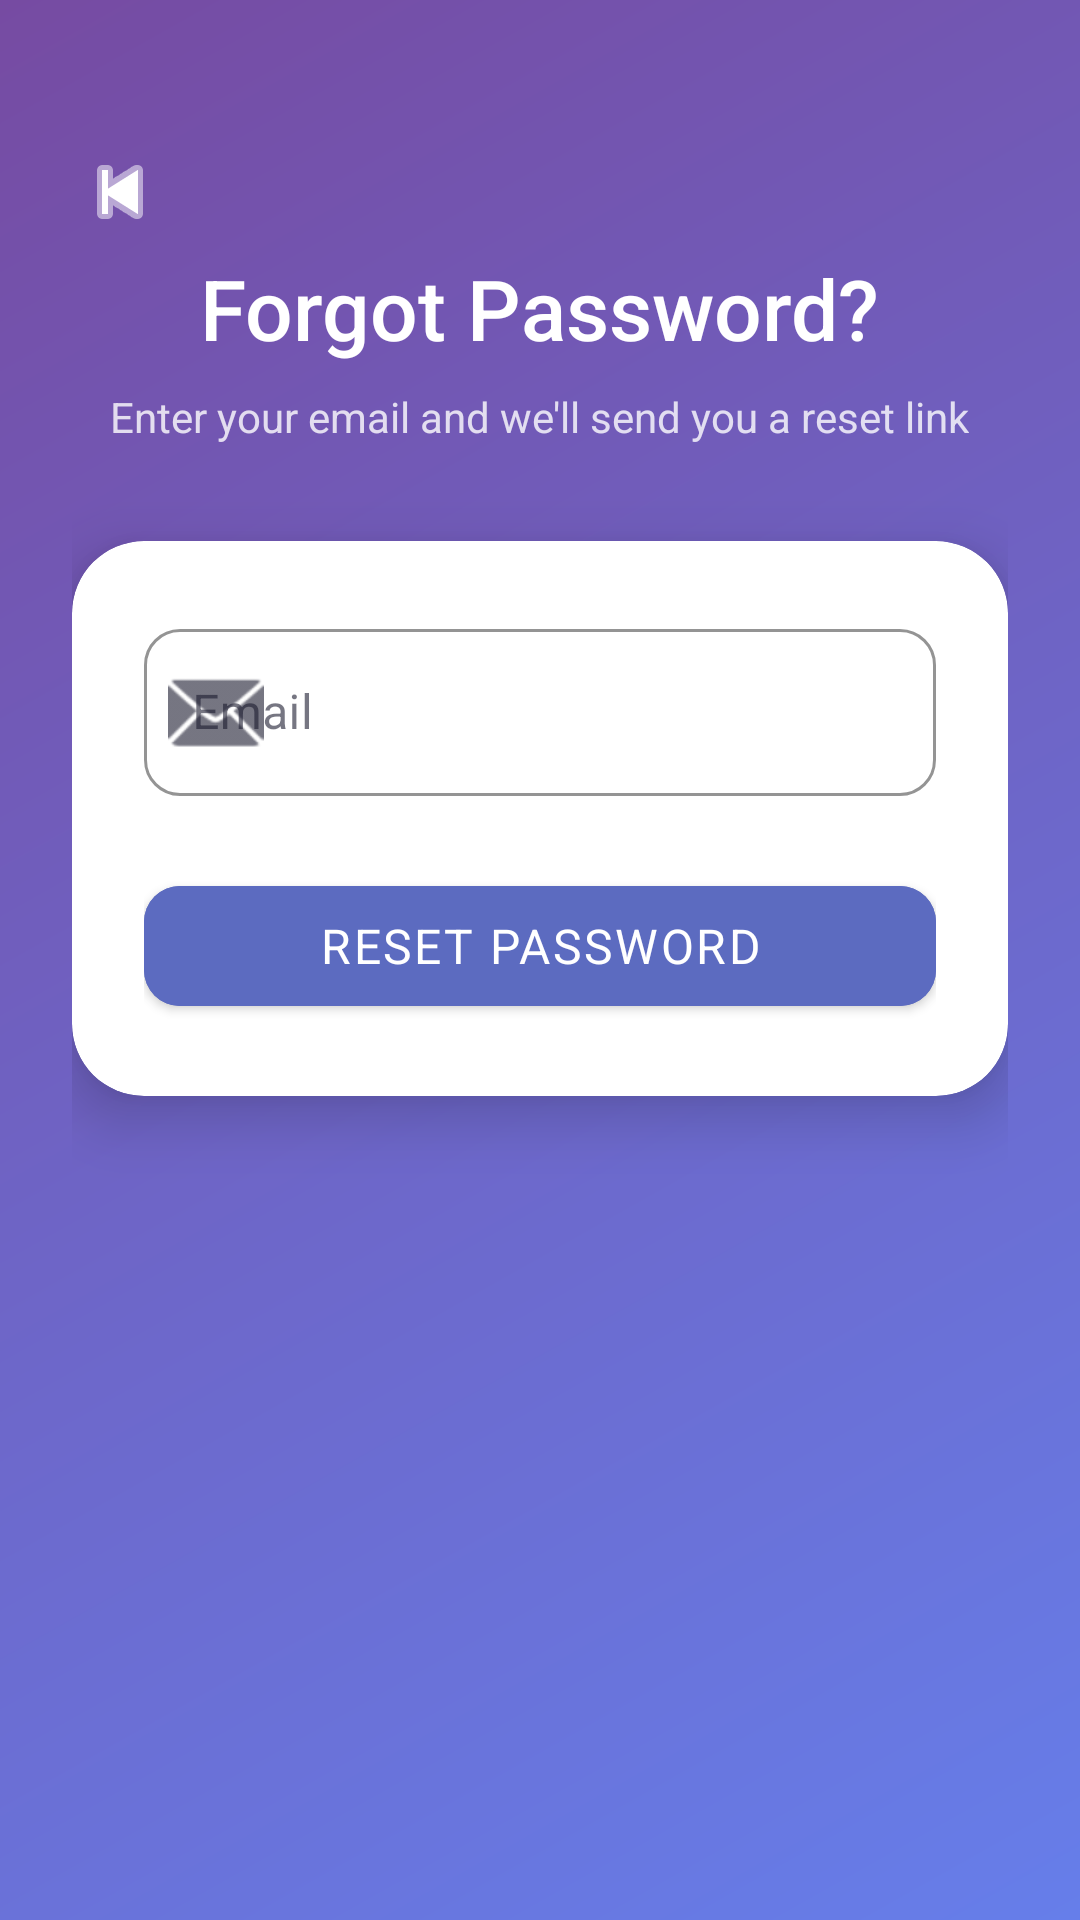

Named icons in this screenshot (1080x1920) and their centers, [x,y]:
Back: [120,192]
